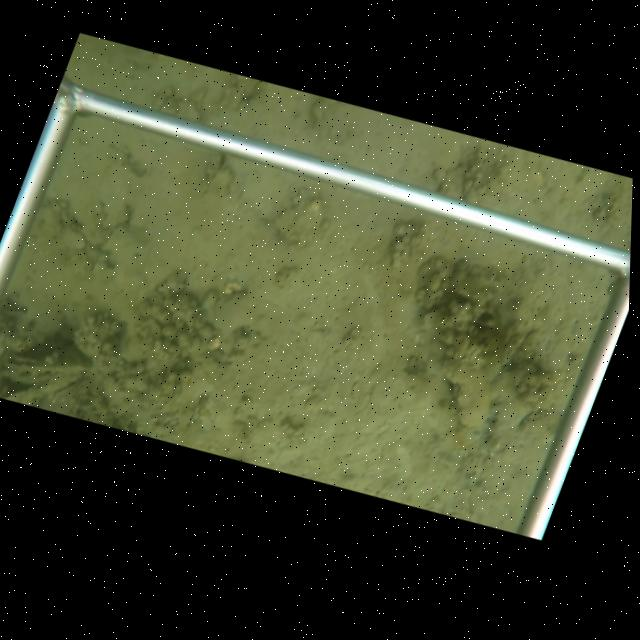Oyster-Closed: (444, 357, 496, 437)
Oyster-Indeterminate: (274, 197, 329, 257)
